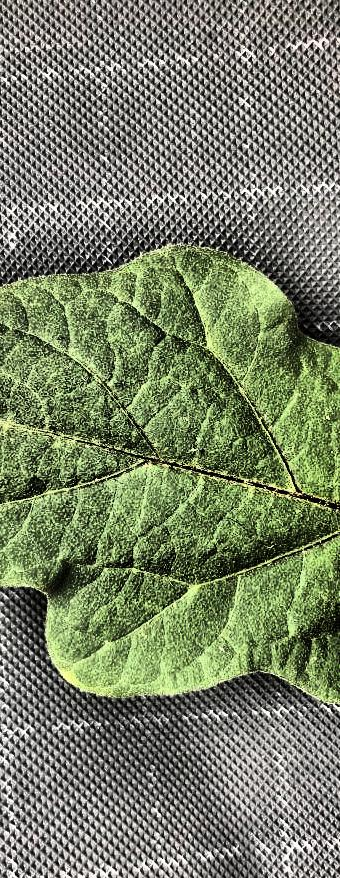HEALTHY: (73, 0, 340, 649)
